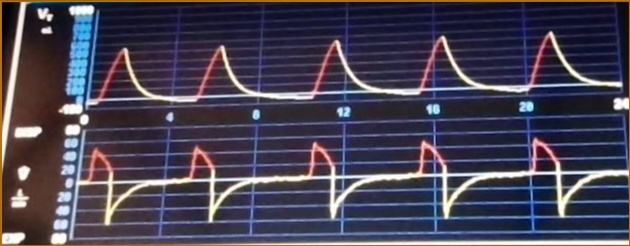Normal Flow: (77, 133, 629, 229)
Normal Volume: (93, 27, 622, 104)
